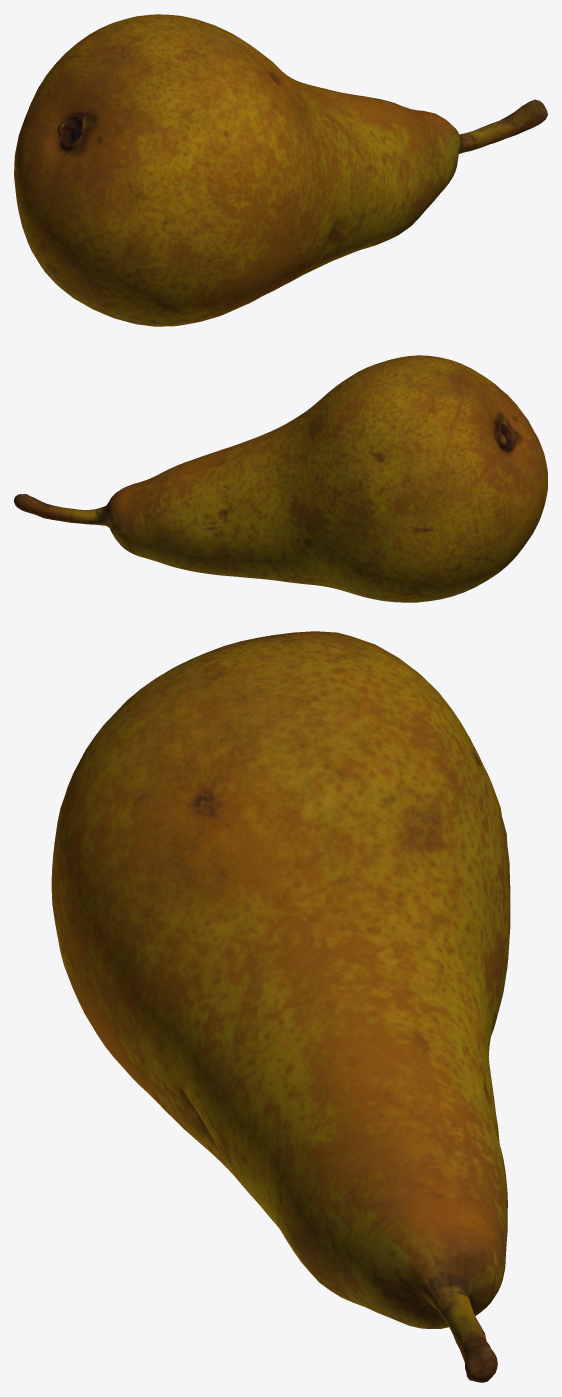
Rendered from Pear.obj.
3 renders of one model, top to bottom at view 1: azimuth 30°, elevation 25°; view 2: azimuth 150°, elevation 25°; view 3: azimuth 270°, elevation 25°, orthographic. The views are drawn at different scales.
Parts seen in each view (by area): view 1: Pear; view 2: Pear; view 3: Pear.
Boxes of the visible parts, bbox=[...] form: Pear: bbox=[14, 14, 547, 326]; Pear: bbox=[14, 355, 547, 602]; Pear: bbox=[51, 631, 510, 1382].
Size of the model in its own units: 30.64 by 14.35 by 13.1.
